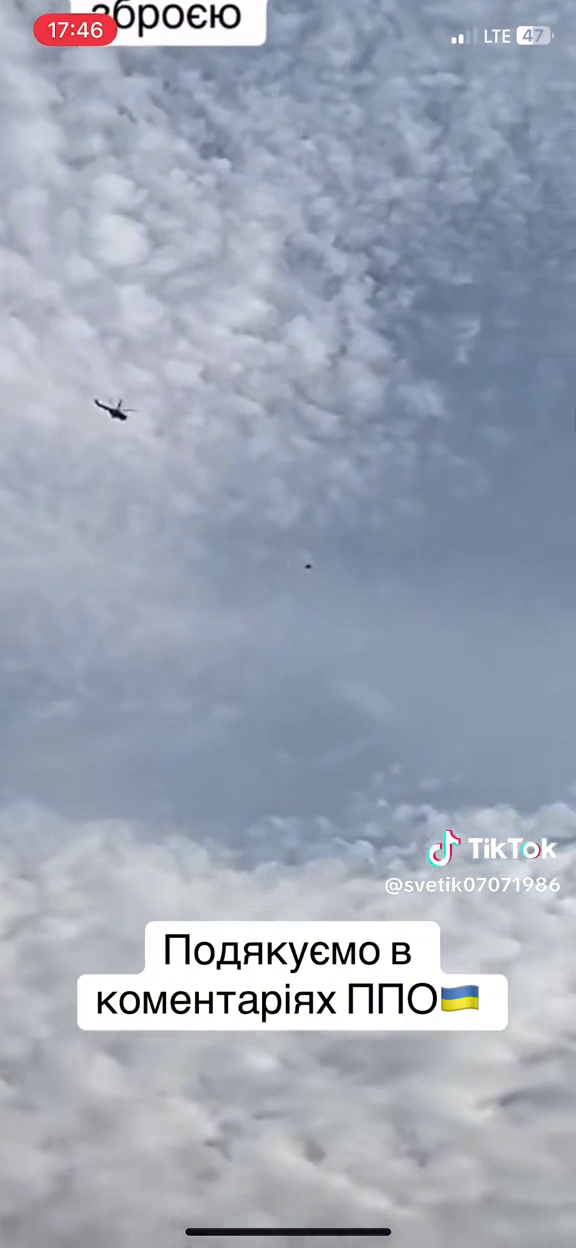not_drone: (91, 392, 140, 426)
